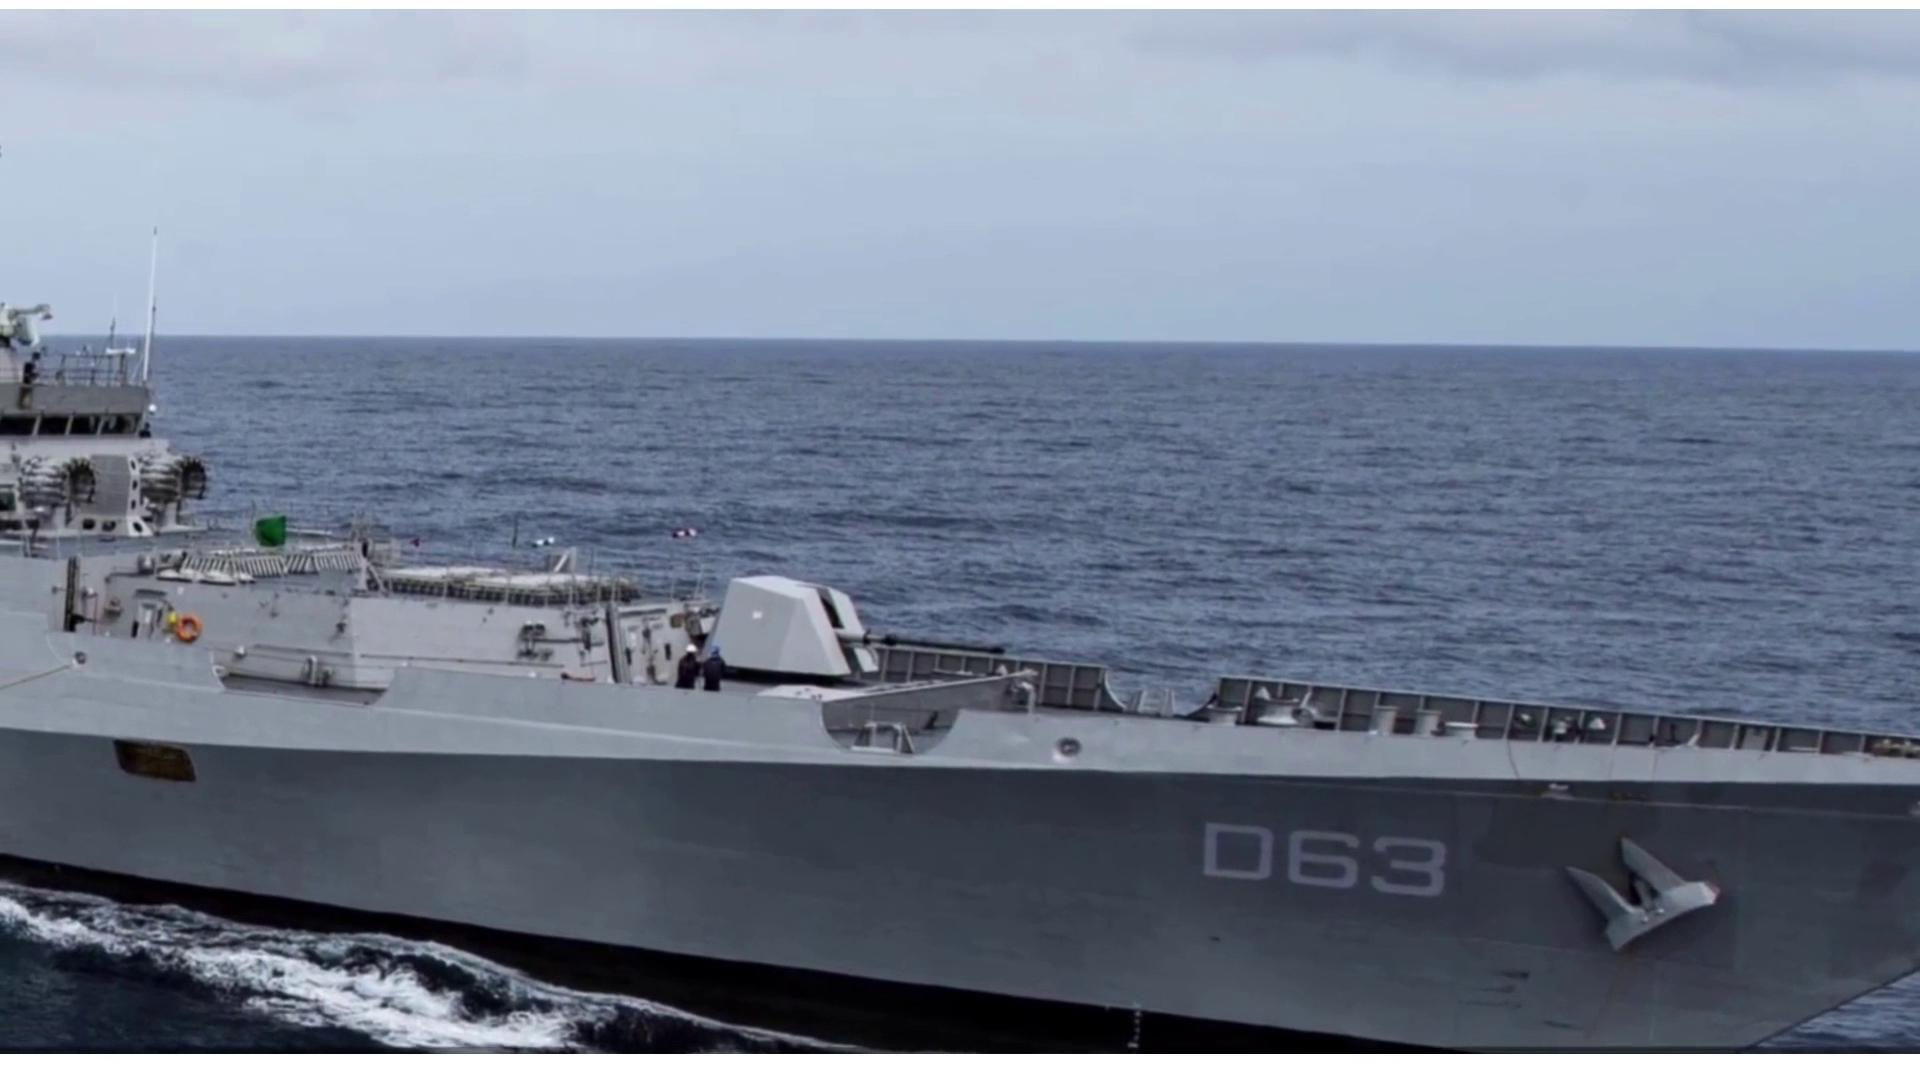OCR: (1189, 814, 1455, 914)
